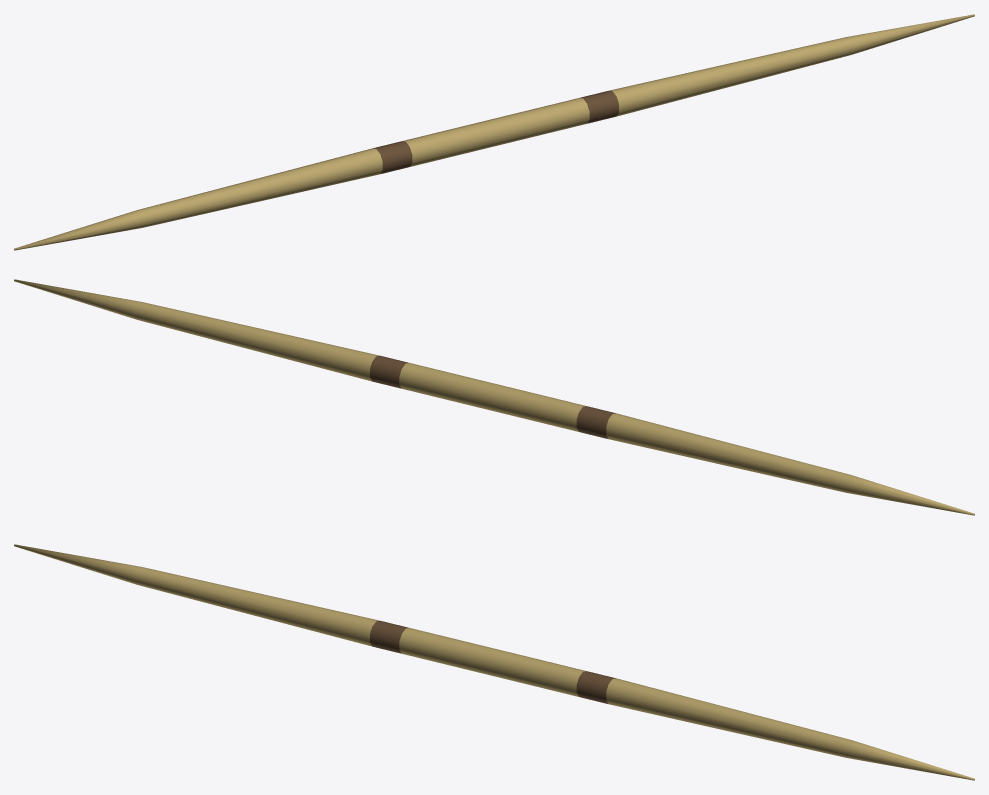
Rendered from toothpick.glb.
3 renders of one model, top to bottom at view 1: azimuth 30°, elevation 25°; view 2: azimuth 150°, elevation 25°; view 3: azimuth 330°, elevation 25°, orthographic.
Parts seen in each view (by area): view 1: toothpick; view 2: toothpick; view 3: toothpick.
Boxes of the visible parts, x1,y1,x2,y2 form: toothpick: (14, 14, 974, 250); toothpick: (14, 279, 974, 515); toothpick: (14, 544, 974, 780).
Bounding box in the file's own units: 0.065 × 0.0016 × 0.00152.
